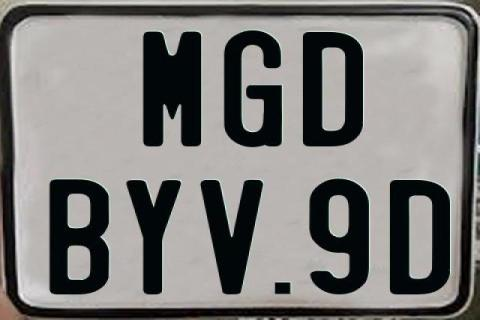0: (306, 176, 369, 293)
B: (46, 177, 108, 293)
D: (302, 32, 368, 151), (389, 180, 453, 299)
G: (222, 30, 280, 148)
M: (142, 31, 200, 149)
V: (198, 178, 264, 292)
Y: (123, 180, 181, 294)
